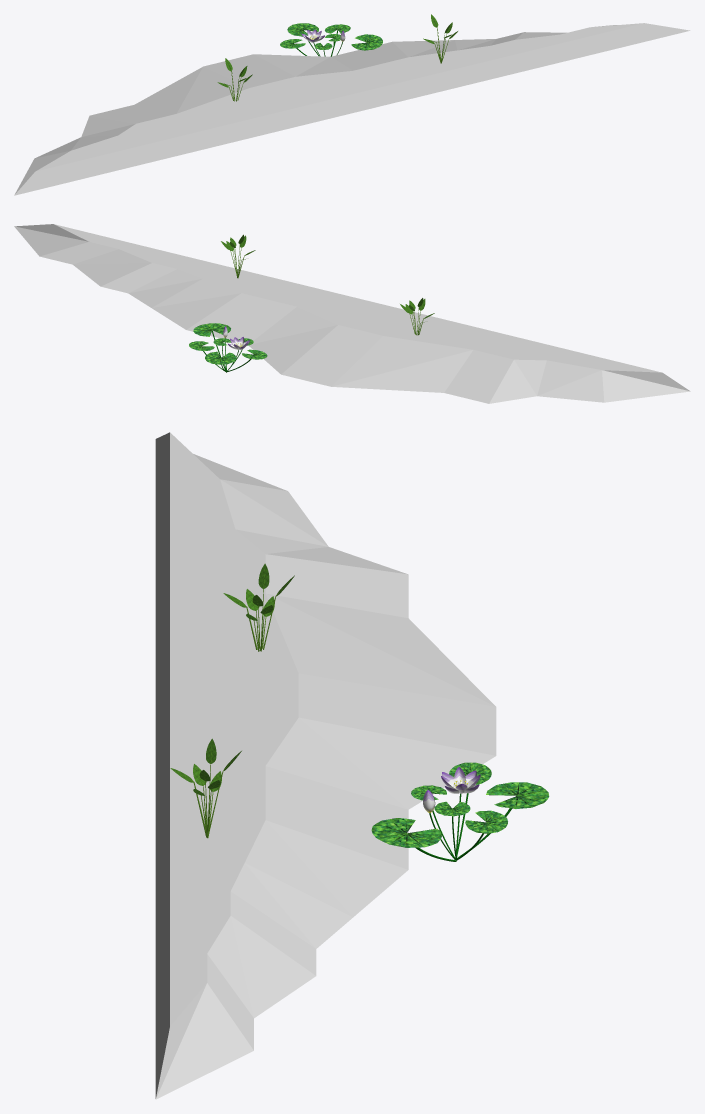
Rendered from shore_test.dae.
3 views of the same model, one above another, from view 1: azimuth 30°, elevation 25°; view 2: azimuth 150°, elevation 25°; view 3: azimuth 270°, elevation 25° (orthographic). The views are drawn at different scales.
Visible parts, largest first — view 1: SketchUp; view 2: SketchUp; view 3: SketchUp.
Part boxes in pixels (box(x1,y1,x2,y2)): SketchUp: box(14, 23, 690, 195); SketchUp: box(14, 224, 690, 403); SketchUp: box(155, 432, 496, 1099).
Size of the model in its own units: 1349 by 340 by 158.
Materials: 14 (3 with a texture image).
